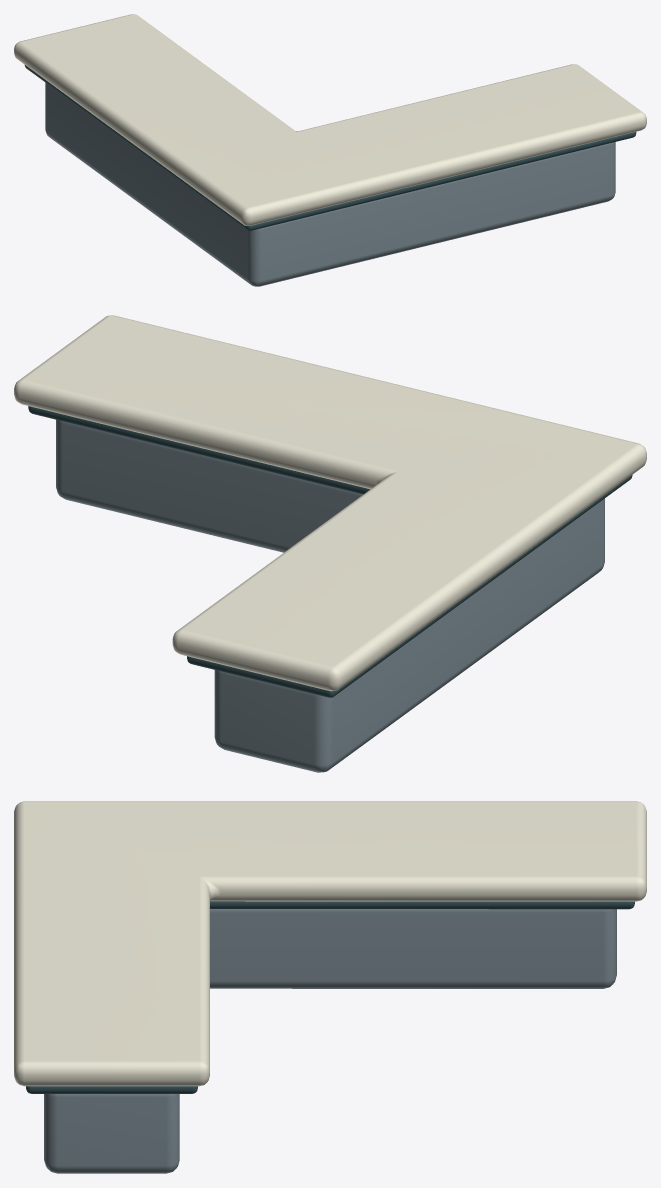
File: city_seating_03.glb
3 views of the same model, one above another, from view 1: azimuth 30°, elevation 25°; view 2: azimuth 150°, elevation 25°; view 3: azimuth 270°, elevation 25° (orthographic). The views are drawn at different scales.
Parts seen in each view (by area): view 1: CitySeating03_Mesh; view 2: CitySeating03_Mesh; view 3: CitySeating03_Mesh.
Boxes of the visible parts, box(x1,y1,x2,y2) form: CitySeating03_Mesh: box(14, 14, 646, 286); CitySeating03_Mesh: box(14, 315, 646, 772); CitySeating03_Mesh: box(14, 801, 646, 1173).
Bounding box in the file's own units: 2.1 × 0.46 × 2.1.
